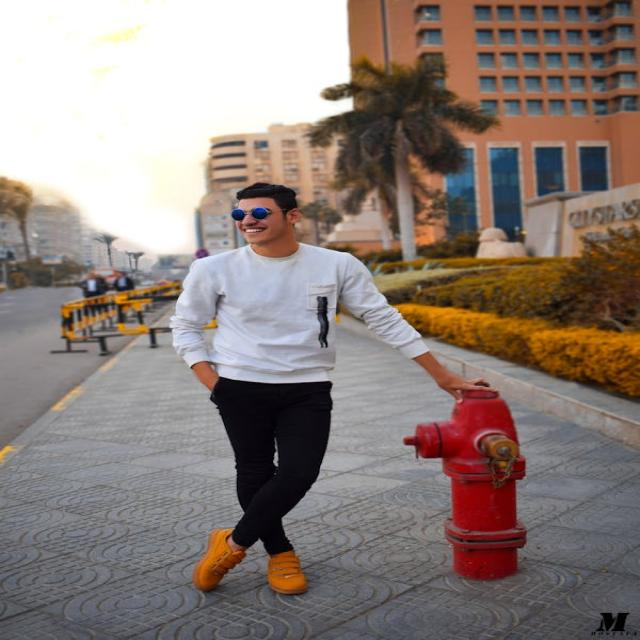Real human 2: (154, 161, 487, 607)
